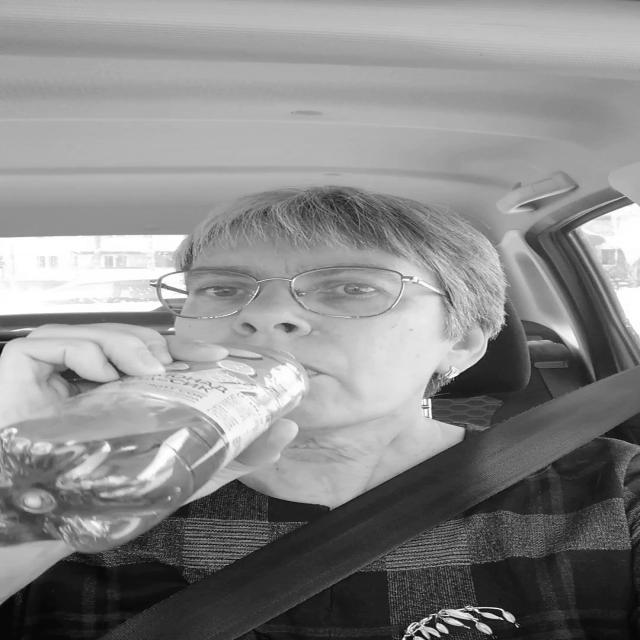Drinking: (12, 348, 310, 544)
Seatbelt: (115, 364, 639, 640)
